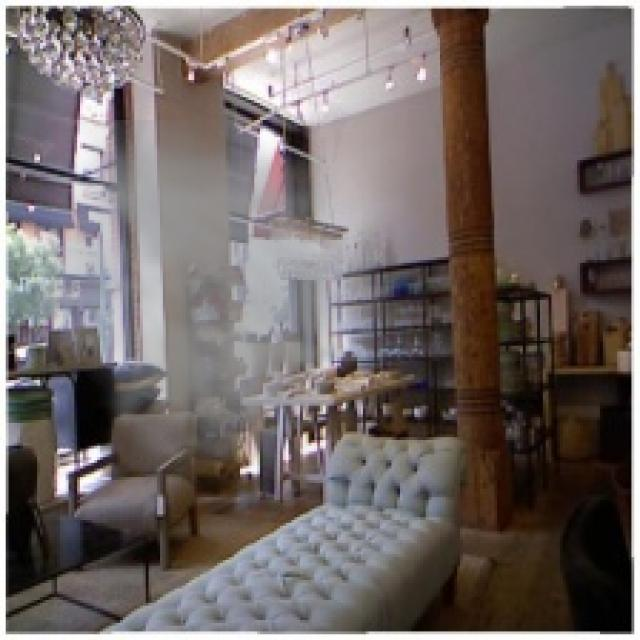smoke: (0, 120, 415, 509)
